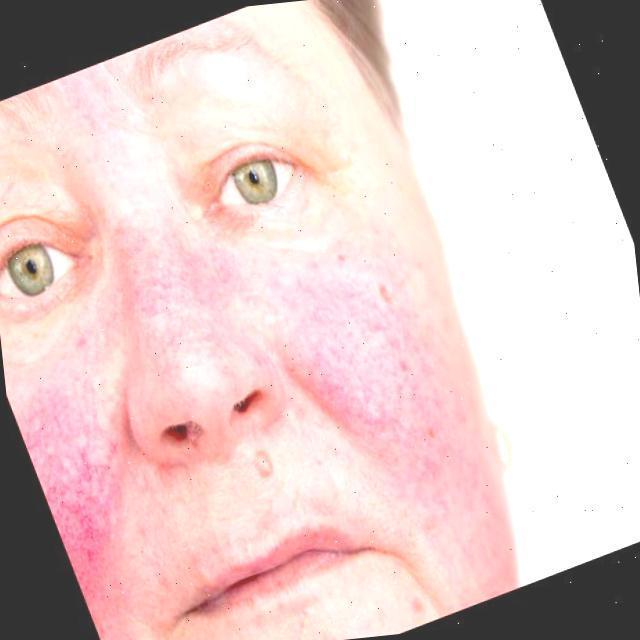skinredness: (212, 164, 576, 636), (1, 335, 198, 640)
